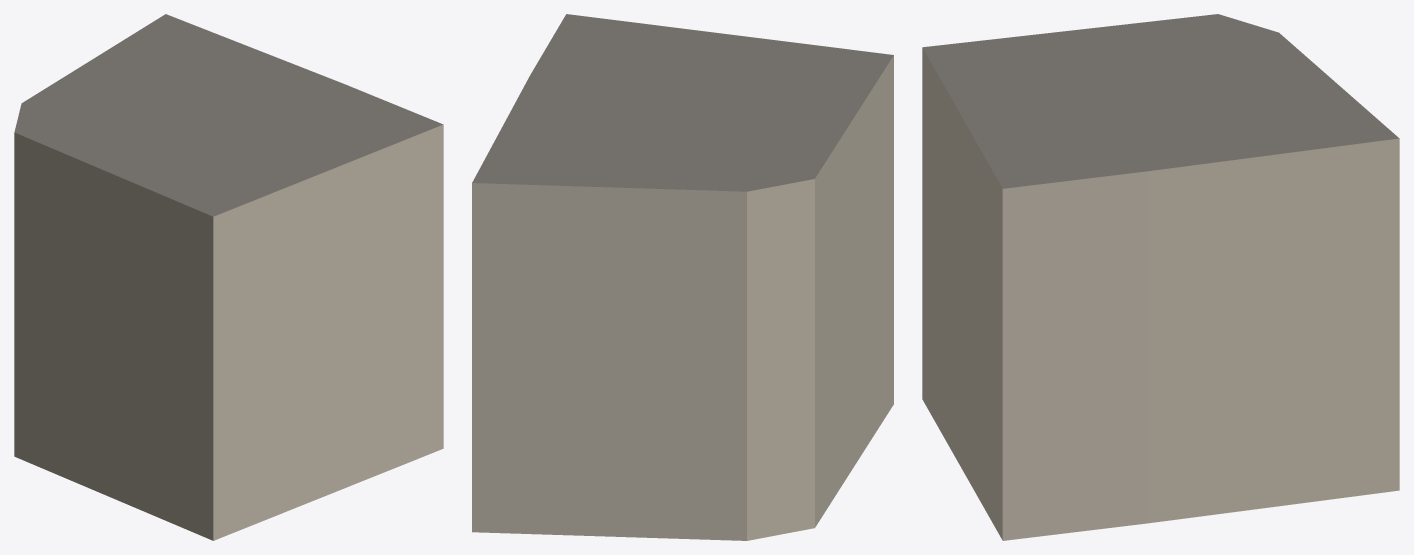
The picture shows the model from 3 angles, left to right: view 1: azimuth 30°, elevation 25°; view 2: azimuth 150°, elevation 25°; view 3: azimuth 270°, elevation 25°; orthographic projection. The views are drawn at different scales.
Visible parts, largest first — view 1: HP-w1197047253; view 2: HP-w1197047253; view 3: HP-w1197047253.
Boxes of the visible parts, box(x1,y1,x2,y2) form: HP-w1197047253: box(14, 14, 443, 540); HP-w1197047253: box(472, 14, 893, 540); HP-w1197047253: box(922, 14, 1399, 540).
Bounding box in the file's own units: 19.17 × 18 × 22.11.
